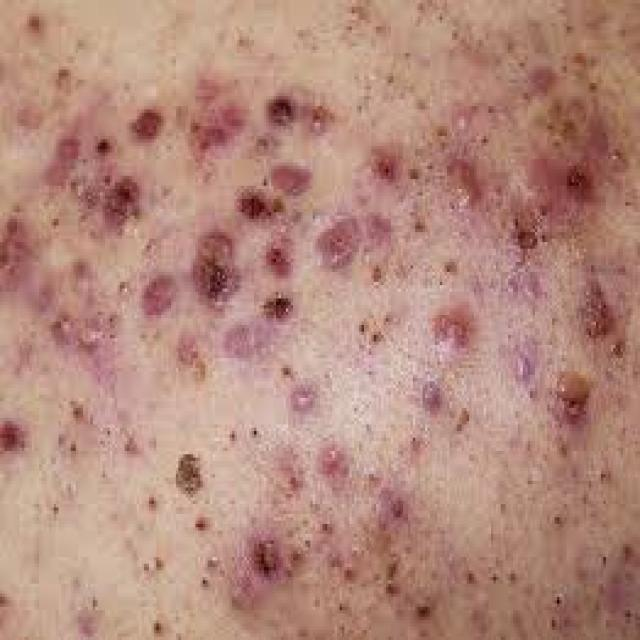Acne: (44, 134, 143, 236), (184, 68, 248, 174), (526, 148, 610, 215), (46, 304, 126, 365), (191, 226, 242, 312), (572, 257, 617, 347), (311, 204, 362, 281), (441, 142, 486, 223), (426, 293, 478, 363), (0, 201, 36, 300), (239, 525, 292, 591), (550, 362, 596, 438), (501, 206, 554, 269), (363, 132, 410, 192), (138, 266, 181, 324), (269, 151, 319, 198), (0, 400, 33, 470), (232, 180, 278, 230), (318, 431, 354, 492), (127, 96, 164, 152), (223, 322, 276, 361), (259, 234, 298, 285), (261, 84, 299, 136), (413, 370, 446, 418), (257, 289, 296, 327), (284, 376, 319, 418), (173, 326, 201, 370), (305, 96, 335, 136)
